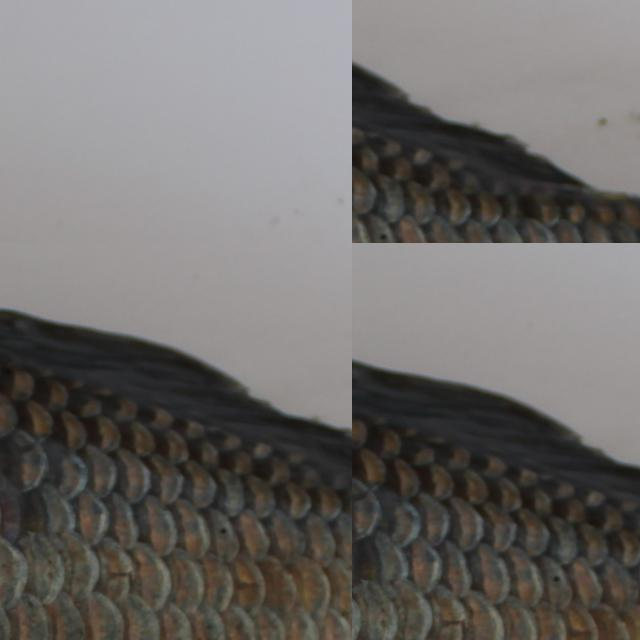fish: (352, 264, 640, 640)
